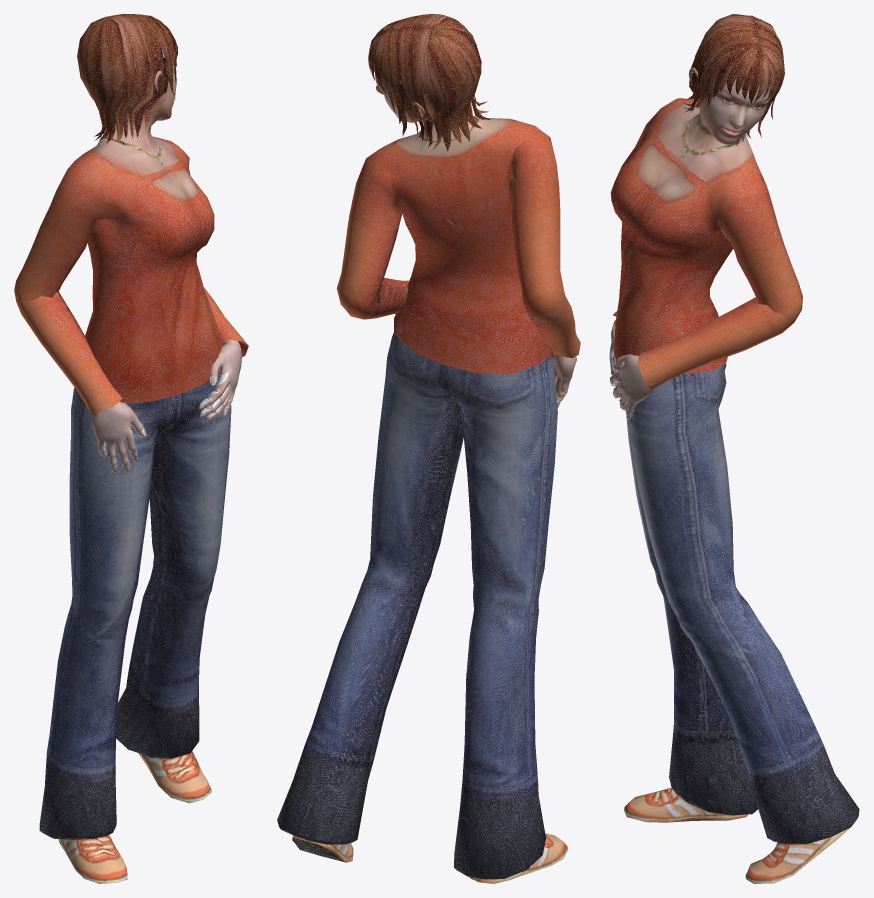
The picture shows the model from 3 angles, left to right: view 1: azimuth 30°, elevation 25°; view 2: azimuth 150°, elevation 25°; view 3: azimuth 270°, elevation 25°; orthographic projection. The views are drawn at different scales.
Parts seen in each view (by area): view 1: obj1221pol (×8); view 2: obj1221pol (×6); view 3: obj1221pol (×7).
Boxes of the visible parts, left/top/right/bottom form: obj1221pol (×8): left=14, top=14, right=248, bottom=883; obj1221pol (×6): left=277, top=14, right=580, bottom=883; obj1221pol (×7): left=610, top=14, right=859, bottom=883.
Size of the model in its own units: 46.56 by 45.52 by 166.
5 materials, 3 textured.
